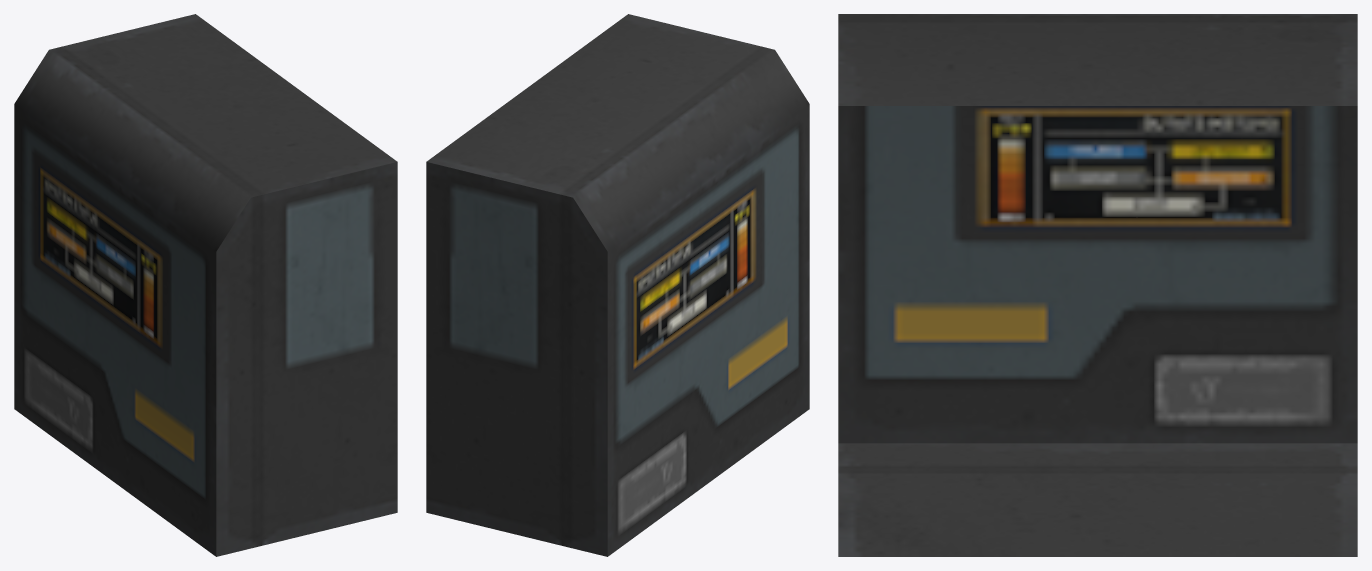
Rendered from CP_Meter_Electric_04.fbx.
3 renders of one model, left to right at view 1: azimuth 30°, elevation 25°; view 2: azimuth 150°, elevation 25°; view 3: azimuth 270°, elevation 25°, orthographic. The views are drawn at different scales.
Parts seen in each view (by area): view 1: CP_Meter_Electric_04; view 2: CP_Meter_Electric_04; view 3: CP_Meter_Electric_04.
Boxes of the visible parts, x1,y1,x2,y2 form: CP_Meter_Electric_04: (14,14,397,556); CP_Meter_Electric_04: (426,14,809,556); CP_Meter_Electric_04: (838,14,1357,556).
Bounding box in the file's own units: 16.42 × 30.36 × 31.68.
